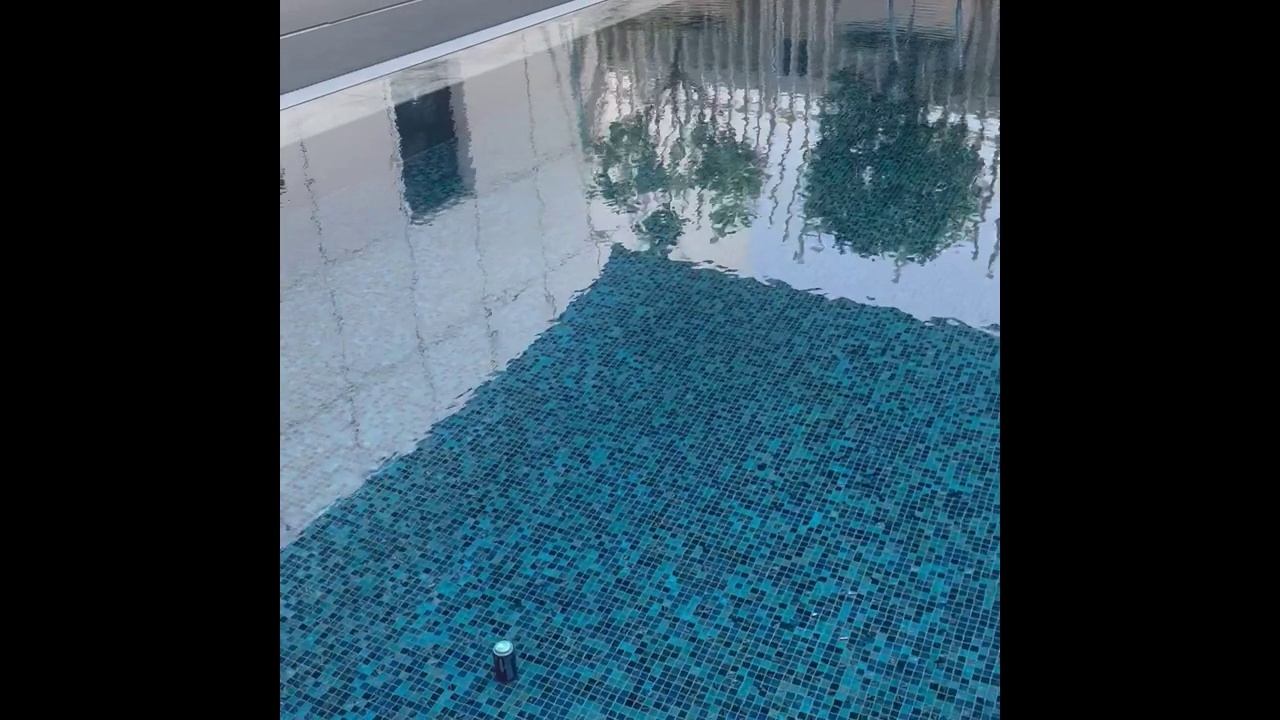debris: (484, 635, 522, 688)
